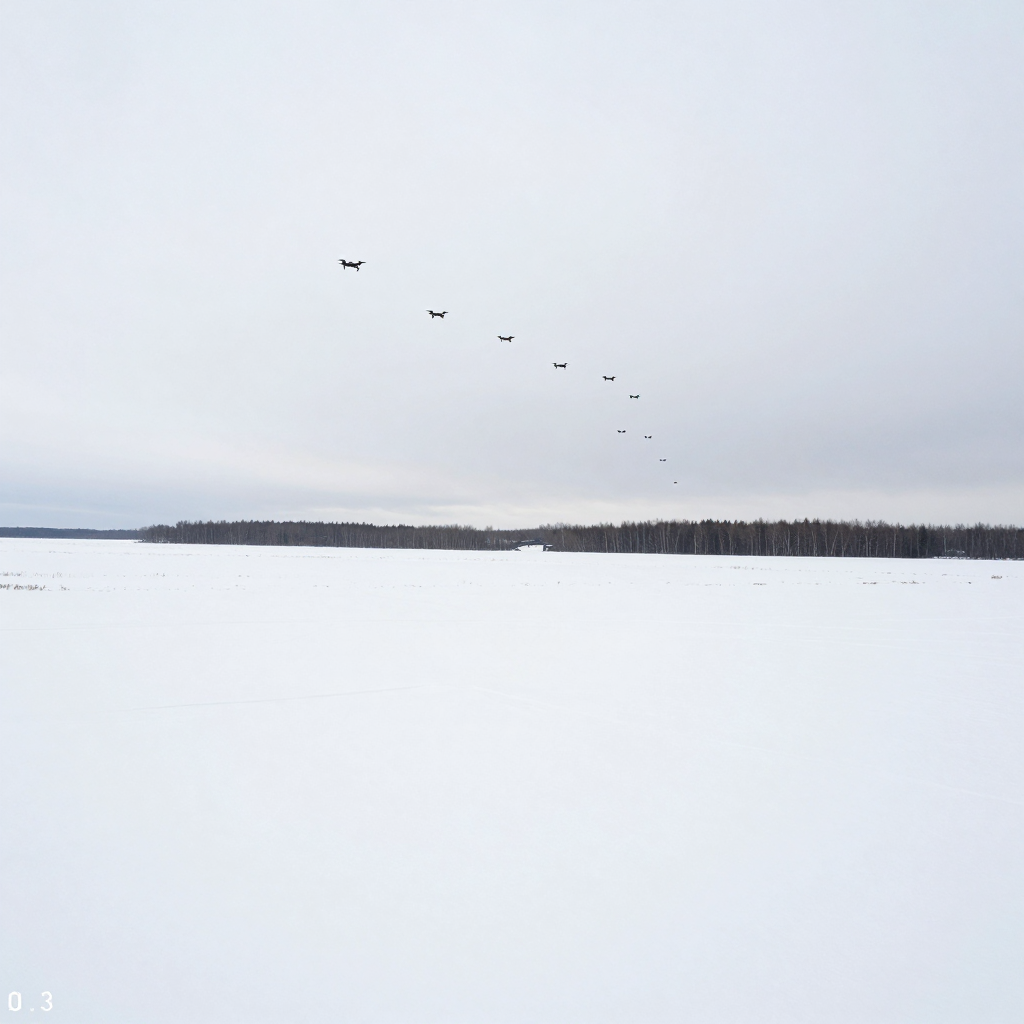drone: (337, 259, 366, 271), (426, 310, 448, 319), (497, 336, 515, 343), (552, 363, 569, 370), (602, 376, 616, 382), (658, 456, 668, 461), (627, 395, 641, 398), (644, 435, 652, 439), (617, 430, 626, 433), (673, 482, 678, 484)
